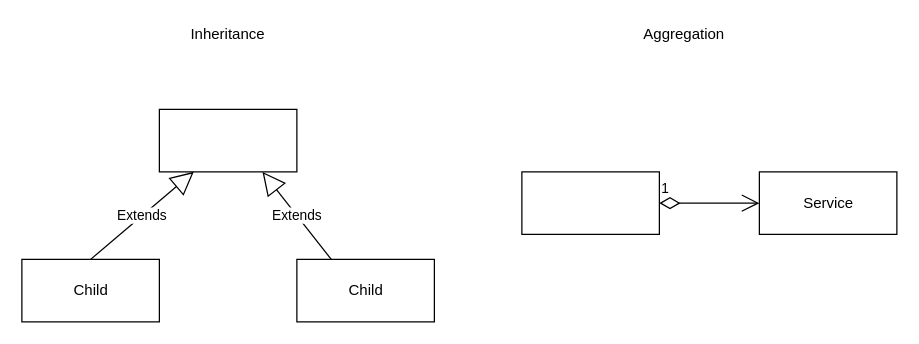
Image size: 919x344. Some labels were removed from this diagram. Each missing label, with the centre of its shape:
"Client" goes at [590,202].
"Parent" goes at [227,140].
